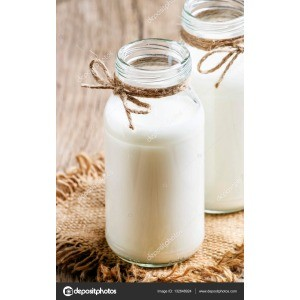milk_brain food: (110, 104, 199, 244), (206, 54, 240, 200)
